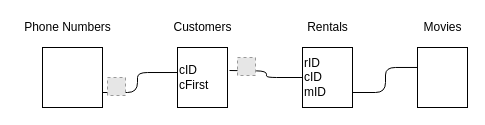
This 485x125 diagram has some shape labels left out. Grey dashed boxes stand in for pictures. Here are the shapes that lost their labels. From the top down, the centre of each, then its label:
At (x=72, y=77): "pID pNumber cID".
At (x=442, y=77): "mID mName mYear".
